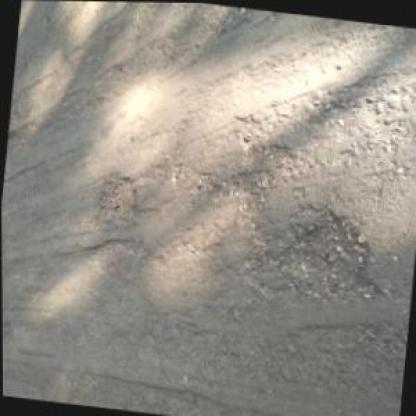pothole: (278, 201, 386, 311), (90, 168, 140, 227), (1, 316, 14, 344)
